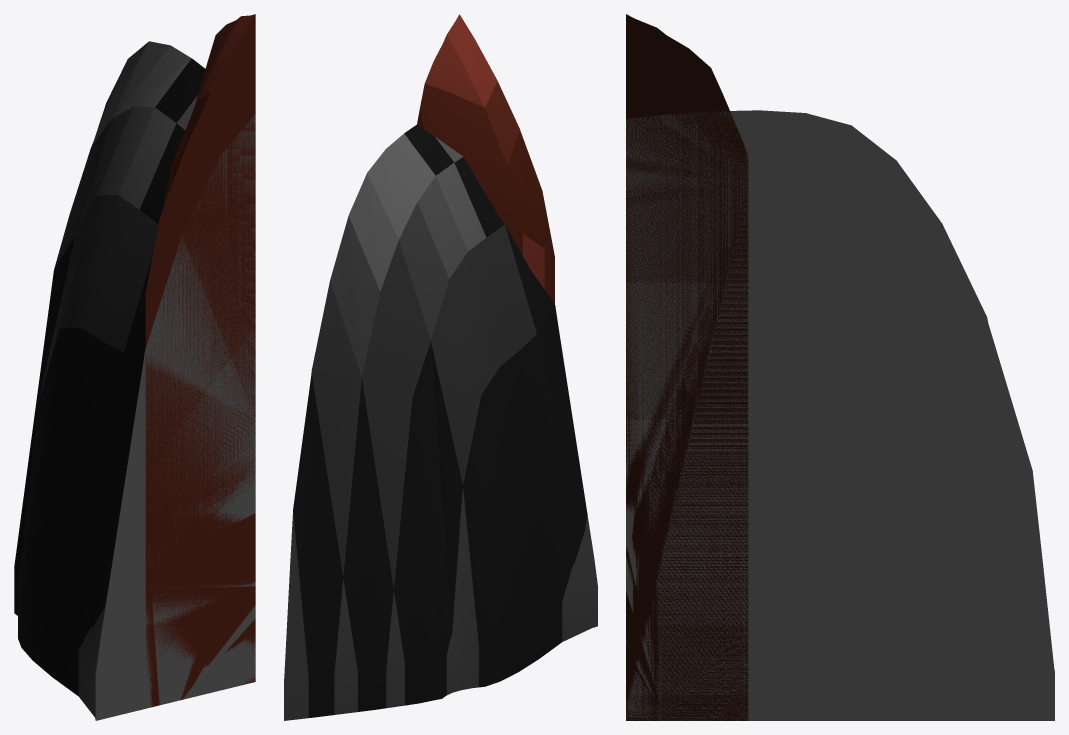
The model's file is dome_head_28.glb.
The picture shows the model from 3 angles, left to right: view 1: azimuth 30°, elevation 25°; view 2: azimuth 150°, elevation 25°; view 3: azimuth 270°, elevation 25°; orthographic projection. The views are drawn at different scales.
Parts seen in each view (by area): view 1: dome_head_28_hshell, dome_head_28_hbrow_l; view 2: dome_head_28_hshell, dome_head_28_hbrow_l; view 3: dome_head_28_hshell, dome_head_28_hbrow_l.
Part boxes in pixels (x1,y1,x2,y2): dome_head_28_hshell: (14,41,255,720); dome_head_28_hbrow_l: (145,14,255,707); dome_head_28_hshell: (284,124,597,720); dome_head_28_hbrow_l: (417,14,554,303); dome_head_28_hshell: (626,110,1054,720); dome_head_28_hbrow_l: (626,14,748,720).
Size of the model in its own units: 4.32 by 17.24 by 9.48.
